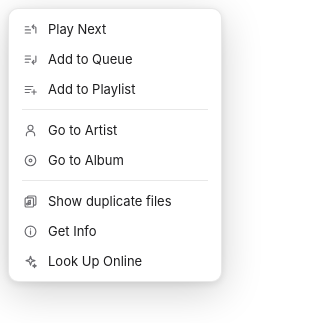
Scenario: context menu actions › offers duplicate management only for one merged song
What coordinates should you click on to do the following:
click the menu item "Show duplicate files"
I would click on:
 (115, 201)
Its box is [14,186,216,216].
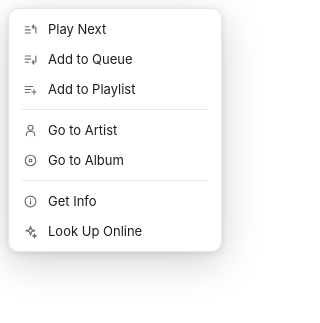
Now the menu item no longer shows "Show duplicate files"
